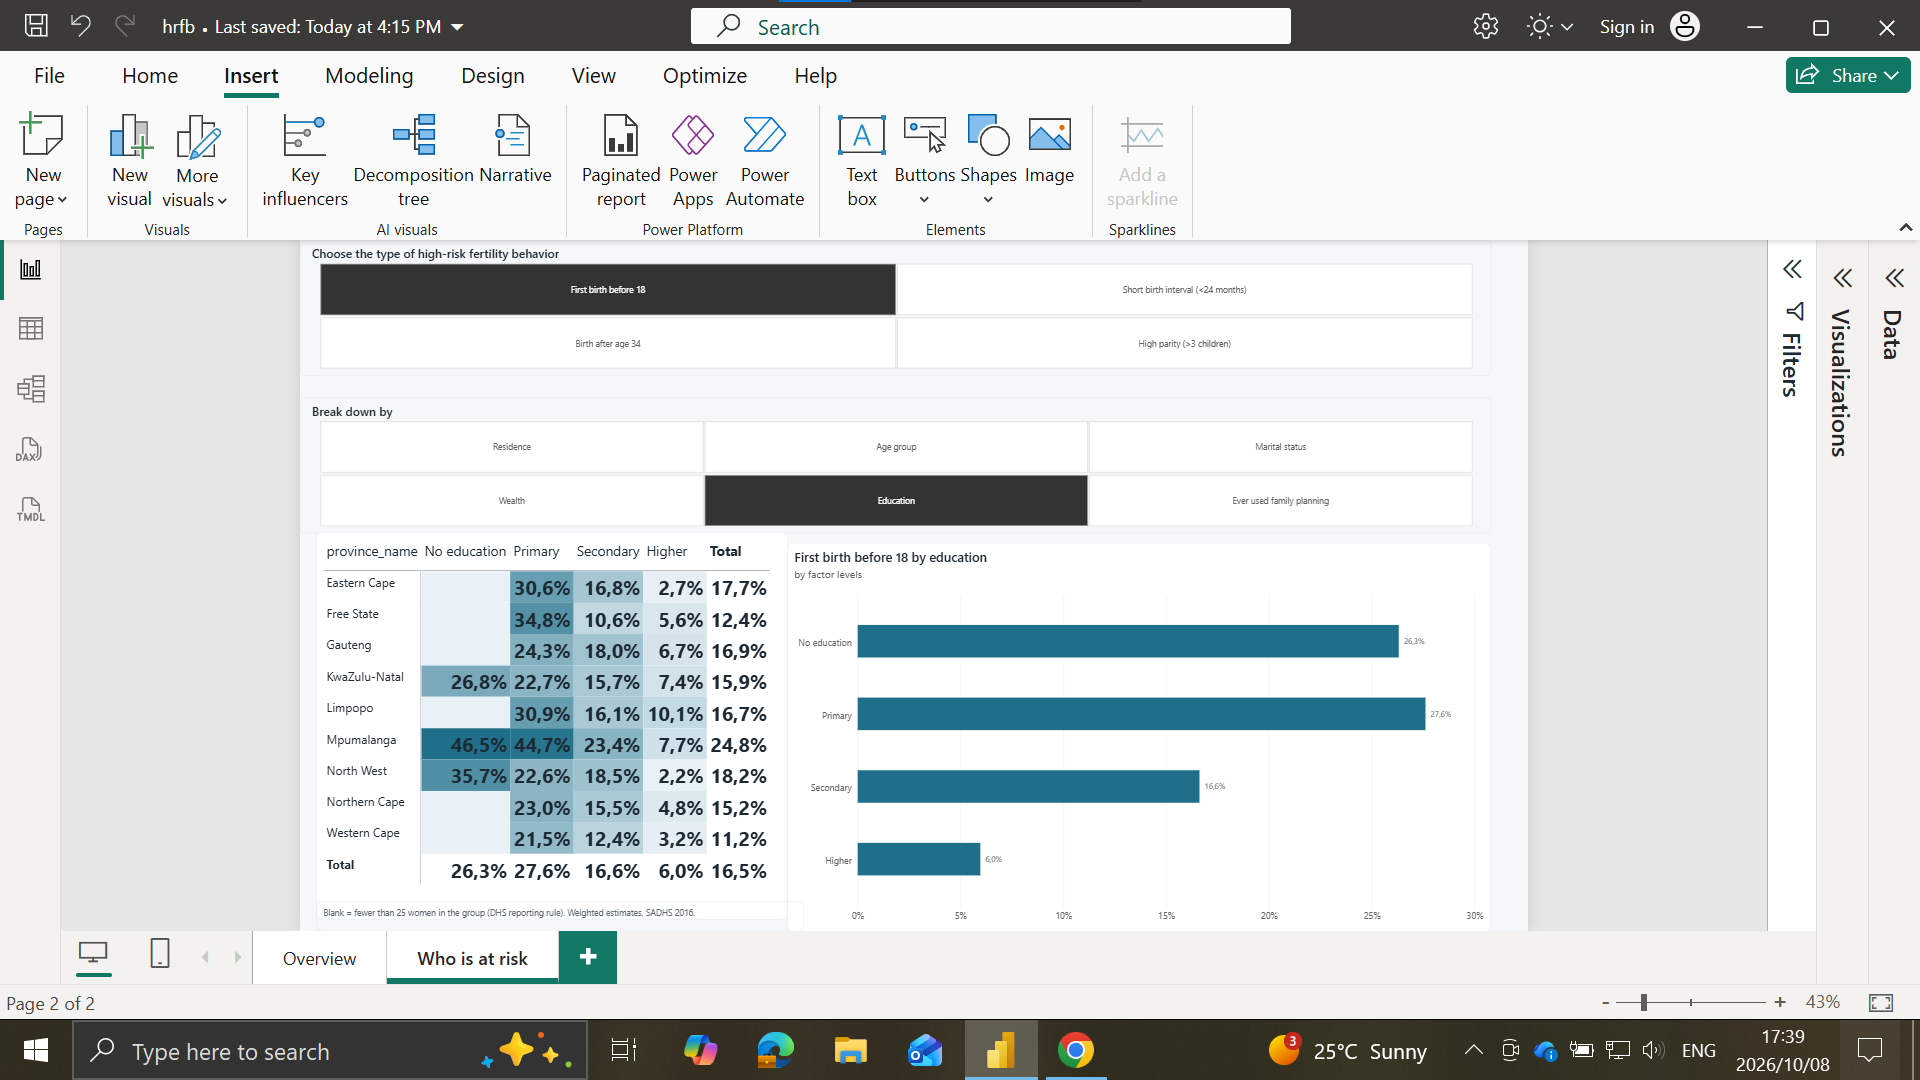

The page's visual inventory and layout, read from the dashboard file:
{"tool":"powerbi","page":{"name":"Who is at risk","canvas":[1920,1080],"ordinal":1},"visuals":[{"type":"slicer","fields":{"Values":["dim_outcome.outcome_label"]},"box":[0,0,1862,212],"z":0},{"type":"slicer","fields":{"Values":["dim_category.dimension_label"]},"box":[0,246,1862,212],"z":1000},{"type":"clusteredBarChart","fields":{"Category":["dim_category.level_label"],"Y":["_Measures.Prevalence %"]},"box":[762,473.6,1099.6,607.2],"z":2000},{"type":"pivotTable","fields":{"Columns":["dim_category.level_label"],"Rows":["dim_province.province_name"],"Values":["_Measures.Prevalence (DHS rule)"]},"box":[25.8,457.2,736.2,604.9],"z":3000},{"type":"textbox","box":[25.8,1033.9,762,46.9],"z":4000}]}

Visuals, with their boxes on the page's 1920x1080 design canvas (x1, y1, x2, y2). These are canvas units, not pixel positions in the 1920x1080 screenshot, which may show the page scaled, cropped or inside an application window:
slicer - dim_outcome.outcome_label: region(0, 0, 1862, 212)
slicer - dim_category.dimension_label: region(0, 246, 1862, 458)
clusteredBarChart - dim_category.level_label x _Measures.Prevalence %: region(762, 474, 1862, 1081)
pivotTable - dim_category.level_label x dim_province.province_name: region(26, 457, 762, 1062)
textbox: region(26, 1034, 788, 1081)
